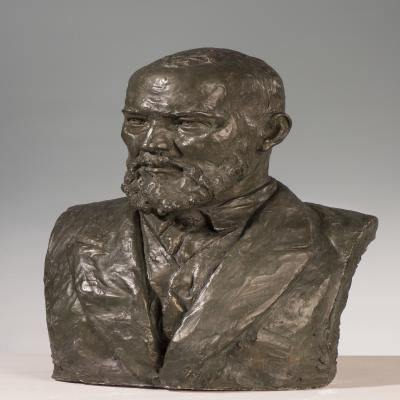sculpture: (43, 48, 379, 393)
